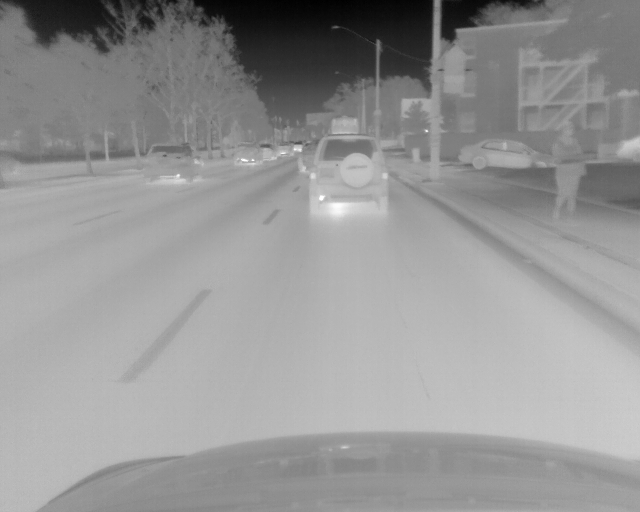car: (307, 136, 388, 218), (457, 135, 553, 170), (140, 142, 205, 184), (617, 134, 640, 167), (296, 142, 320, 173), (233, 140, 260, 166), (258, 140, 276, 163), (277, 141, 293, 157)
people: (552, 120, 588, 222)
